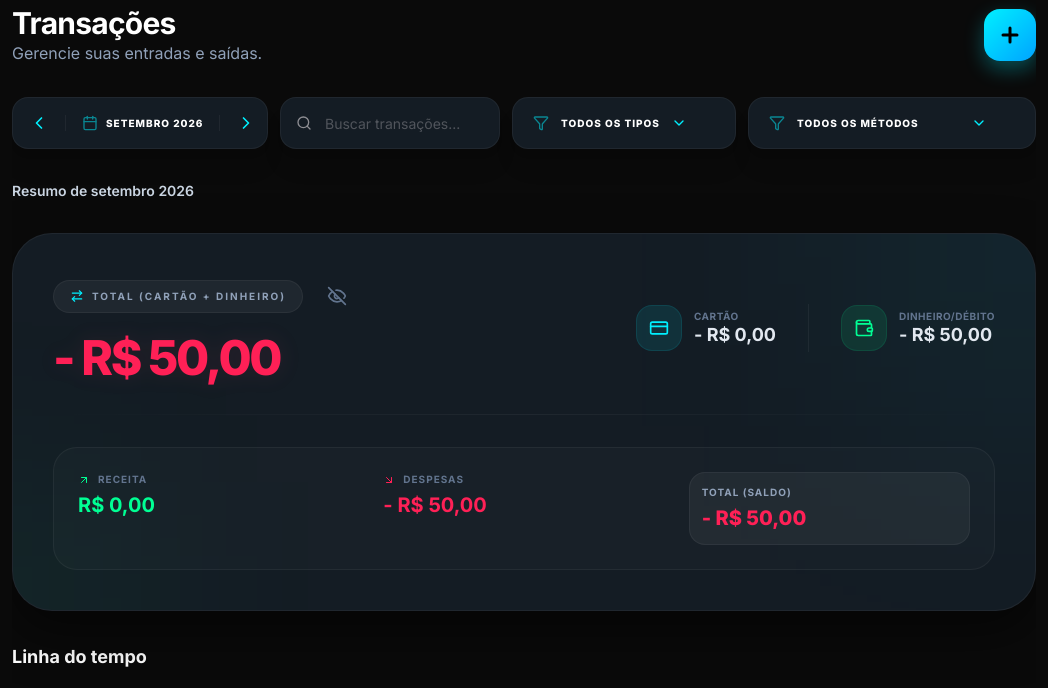
Test case: linha do tempo de transações › acompanha o seletor de mês e usa a data do lançamento para agrupar parcelas
Check: the text "Lançamento julho" is not shown
Click the button named "Mês anterior" at (39, 123), box [17, 101, 61, 145]
(page scrolled)
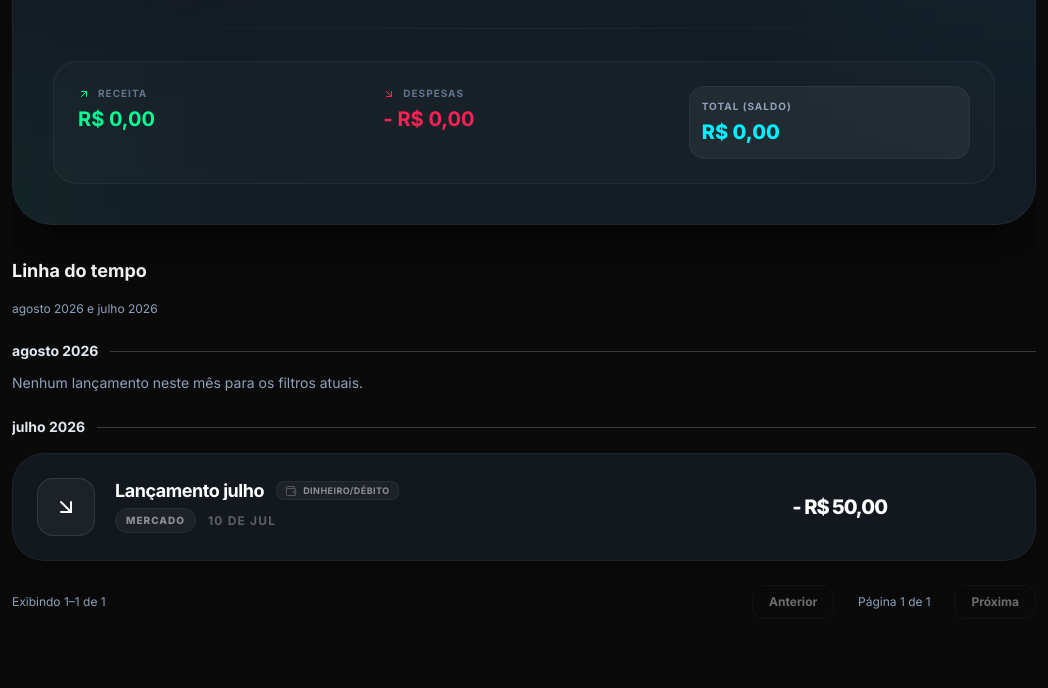
Check: the heading "Lançamento julho" is shown, box [115, 482, 264, 500]
Check: the heading "julho 2026" is shown, box [12, 418, 85, 435]
